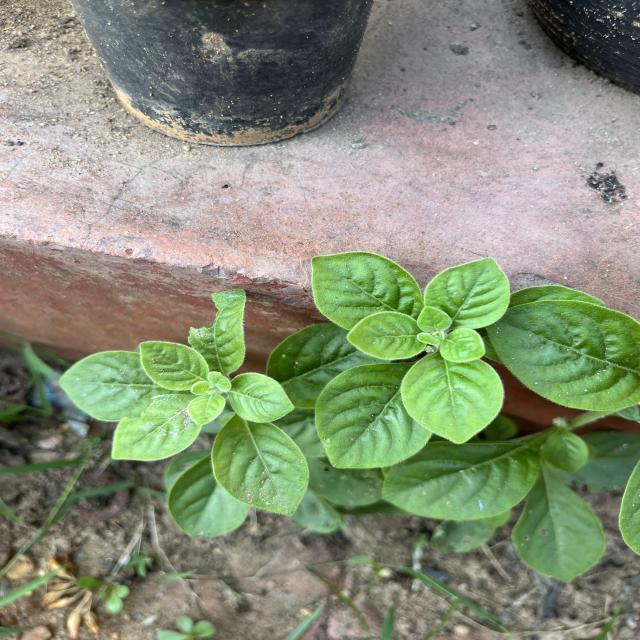Aerva lanata: (310, 359, 434, 471), (398, 350, 508, 447), (206, 418, 312, 518), (307, 249, 425, 333), (421, 254, 513, 331), (344, 309, 426, 362), (136, 337, 212, 392), (226, 370, 298, 426)
